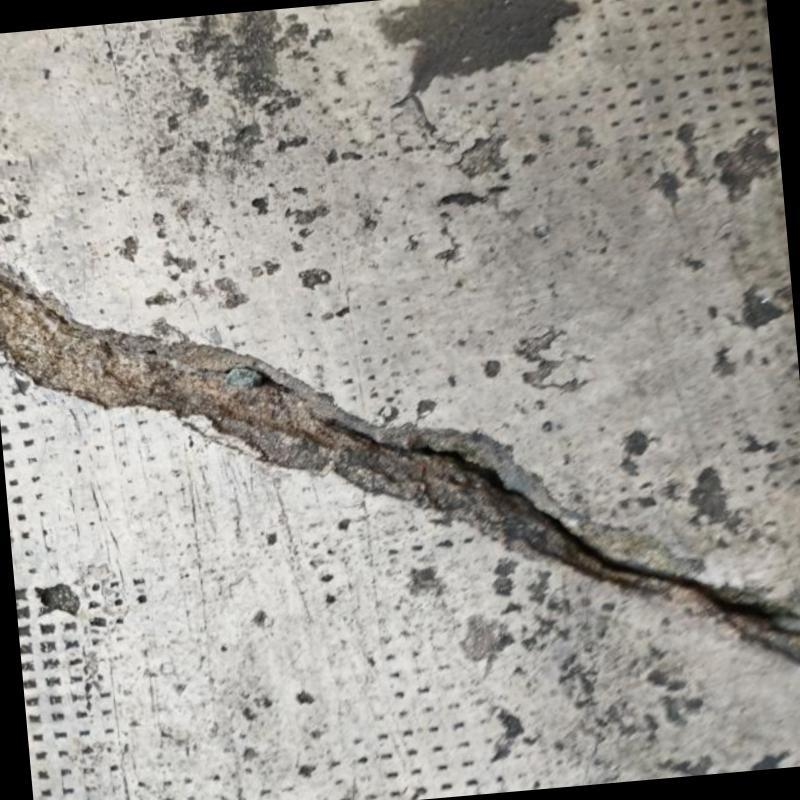crack: (0, 264, 800, 638)
